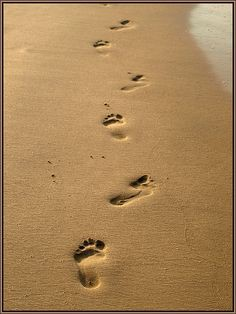human_footprint: (68, 237, 116, 292), (107, 173, 159, 207), (98, 109, 134, 146), (122, 70, 156, 96), (93, 36, 112, 58), (111, 16, 136, 31)
